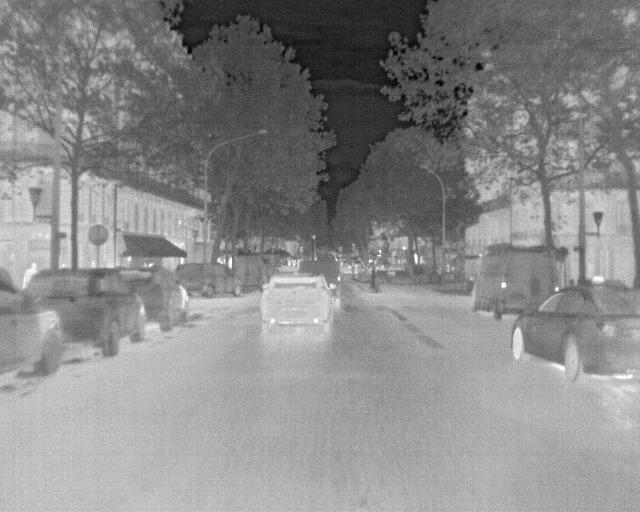car: (509, 277, 639, 382), (22, 266, 145, 357), (471, 243, 565, 320), (0, 265, 64, 375), (113, 265, 194, 332), (259, 272, 338, 334), (175, 261, 244, 299), (297, 258, 342, 306), (232, 254, 270, 292)
light: (352, 243, 355, 251)
sign: (88, 224, 109, 244), (558, 246, 568, 258)
